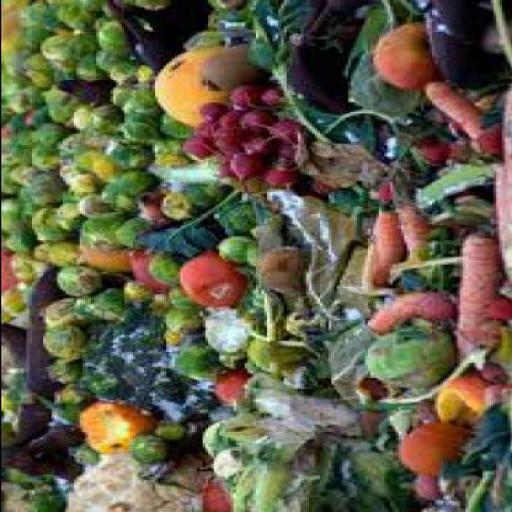biodegradable: (1, 1, 510, 511), (194, 390, 362, 511), (257, 196, 361, 322), (78, 306, 182, 409), (316, 327, 431, 410), (342, 6, 422, 121), (63, 444, 197, 511), (92, 2, 207, 74), (17, 268, 73, 414), (282, 37, 352, 153), (417, 3, 509, 91), (309, 444, 423, 511), (436, 411, 510, 511), (241, 2, 313, 95), (448, 236, 495, 362), (154, 48, 226, 130), (362, 328, 448, 392), (484, 89, 509, 289), (285, 145, 378, 192), (2, 427, 76, 486), (372, 26, 439, 91), (358, 292, 444, 341), (420, 82, 484, 146), (73, 404, 145, 456), (384, 179, 426, 268), (280, 113, 394, 145), (176, 251, 238, 309), (394, 425, 464, 475), (428, 374, 495, 426), (193, 307, 246, 369), (132, 222, 218, 258), (414, 226, 459, 292), (151, 378, 213, 424), (193, 45, 246, 97), (364, 209, 394, 292), (95, 173, 151, 216), (240, 342, 300, 382), (207, 204, 277, 238), (255, 249, 299, 300), (14, 169, 61, 209), (140, 164, 212, 190), (240, 218, 278, 266), (120, 251, 162, 294), (67, 289, 118, 324), (369, 216, 400, 270), (207, 372, 246, 412), (146, 134, 188, 171), (168, 348, 212, 382), (36, 326, 78, 361), (76, 216, 120, 249), (109, 86, 154, 118), (76, 248, 128, 275), (174, 30, 226, 56), (152, 192, 194, 224), (34, 90, 76, 122), (50, 270, 98, 297), (125, 193, 165, 225), (25, 210, 65, 242), (129, 460, 174, 488), (145, 252, 182, 286), (6, 484, 54, 510), (104, 62, 151, 88), (359, 244, 386, 289), (148, 309, 202, 331), (11, 58, 48, 90), (11, 408, 42, 446), (0, 324, 28, 366), (221, 156, 260, 186), (47, 2, 87, 30), (66, 54, 101, 86), (34, 38, 76, 64), (397, 477, 436, 504), (208, 238, 250, 263), (106, 145, 148, 170), (44, 391, 79, 421), (192, 479, 224, 511), (86, 17, 121, 46), (129, 438, 168, 464), (53, 84, 103, 104), (177, 186, 221, 208), (36, 303, 74, 328), (8, 30, 47, 54), (53, 136, 95, 158), (109, 222, 143, 249), (53, 170, 87, 197), (251, 166, 286, 192), (30, 123, 65, 149), (468, 128, 494, 162), (112, 123, 156, 143), (89, 47, 120, 74), (142, 258, 174, 284), (176, 140, 207, 166), (40, 361, 70, 387), (118, 280, 148, 306), (28, 145, 58, 171), (1, 55, 20, 96), (1, 198, 22, 235), (19, 6, 54, 28), (405, 146, 445, 165), (252, 86, 280, 113), (6, 257, 31, 287), (154, 121, 193, 140), (76, 129, 115, 148), (202, 6, 229, 33), (1, 230, 31, 254), (162, 287, 194, 309), (58, 15, 90, 37), (75, 198, 112, 217), (45, 244, 72, 270), (234, 112, 272, 130), (235, 136, 266, 158), (207, 110, 232, 137), (266, 142, 296, 164), (1, 290, 26, 316), (51, 203, 75, 230), (67, 34, 89, 63), (145, 423, 180, 441), (84, 160, 109, 185), (476, 387, 504, 409), (84, 107, 114, 126), (439, 142, 464, 164), (224, 89, 246, 114), (406, 400, 425, 428), (1, 376, 15, 414), (186, 121, 212, 141), (194, 105, 220, 124), (18, 107, 44, 126), (210, 134, 232, 156), (64, 108, 86, 130), (0, 170, 17, 197), (28, 242, 47, 266), (470, 369, 495, 387), (11, 127, 33, 146), (144, 302, 170, 318), (1, 125, 15, 154), (168, 337, 199, 350), (302, 181, 324, 199), (179, 419, 199, 438), (43, 67, 67, 82), (209, 166, 224, 184), (156, 332, 174, 346), (1, 107, 15, 124), (204, 158, 224, 166), (1, 310, 11, 325), (0, 419, 6, 441), (0, 97, 17, 104), (1, 156, 9, 170)
